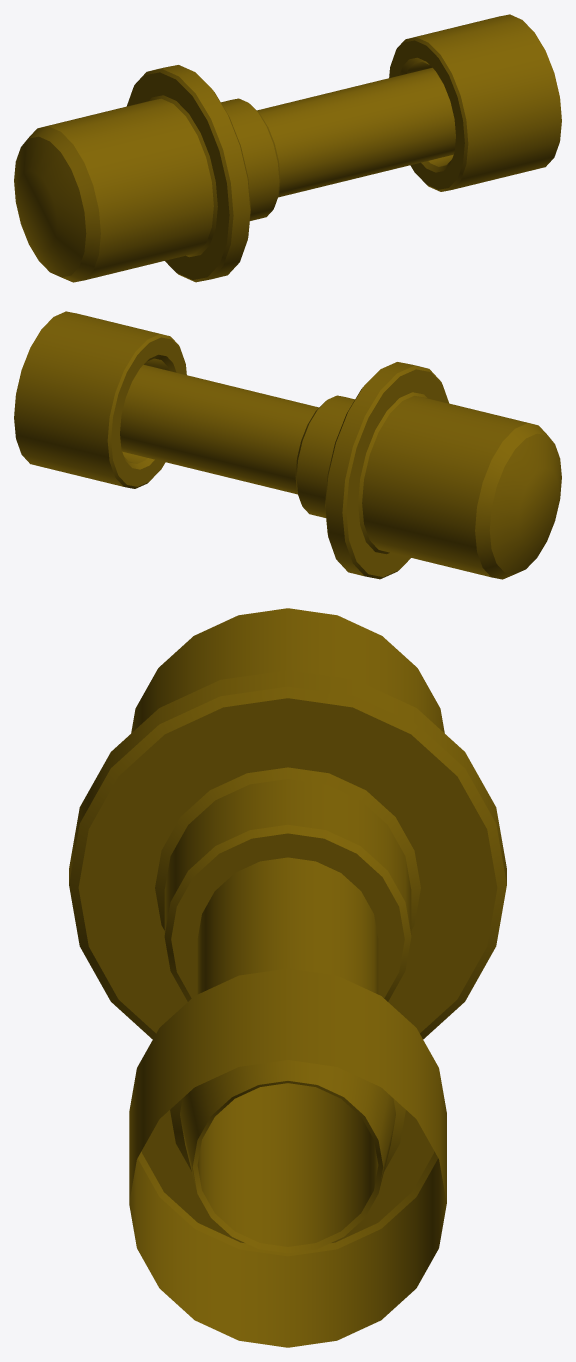
The model's file is rotor.fbx.
3 renders of one model, top to bottom at view 1: azimuth 30°, elevation 25°; view 2: azimuth 150°, elevation 25°; view 3: azimuth 270°, elevation 25°, orthographic. The views are drawn at different scales.
Visible parts, largest first — view 1: Rotor; view 2: Rotor; view 3: Rotor.
Part boxes in pixels (box(x1,y1,x2,y2)): Rotor: box(14, 14, 561, 282); Rotor: box(14, 311, 561, 579); Rotor: box(69, 608, 506, 1347).
Bounding box in the file's own units: 2.27 × 0.8894 × 0.8894.
